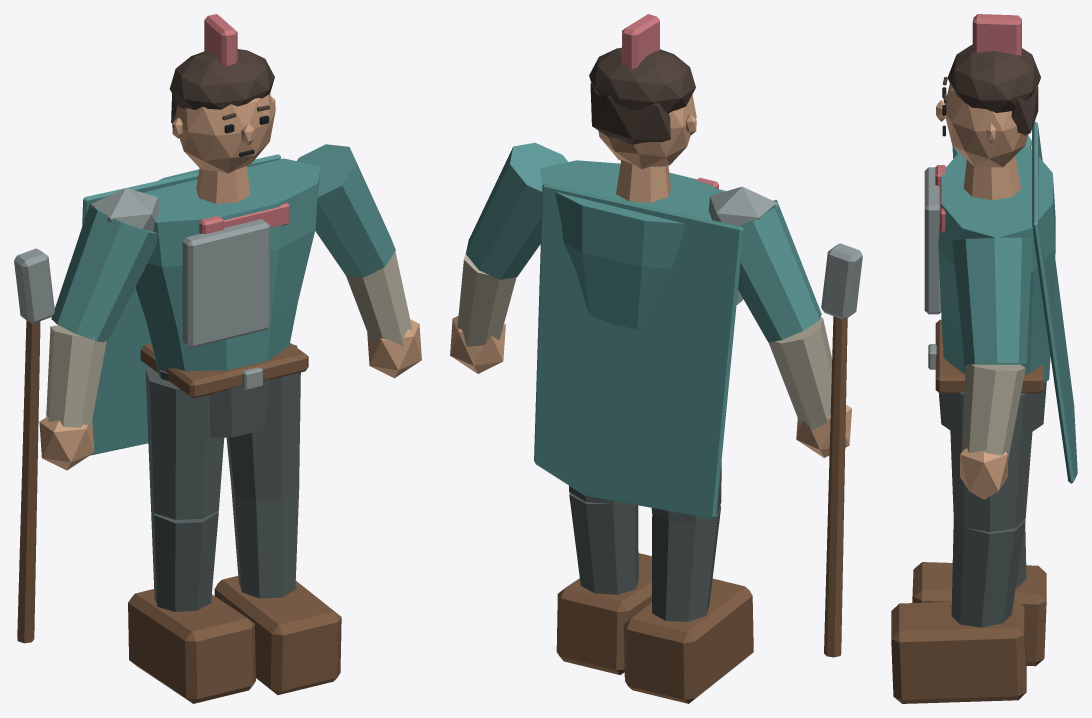
File: npc_raider_step_r_v01.glb
The picture shows the model from 3 angles, left to right: view 1: azimuth 30°, elevation 25°; view 2: azimuth 150°, elevation 25°; view 3: azimuth 270°, elevation 25°; orthographic projection. The views are drawn at different scales.
Visible parts, largest first — view 1: GEO_npc_raider_step_r_v01; view 2: GEO_npc_raider_step_r_v01; view 3: GEO_npc_raider_step_r_v01.
Part boxes in pixels (x1,y1,x2,y2): GEO_npc_raider_step_r_v01: (14,14,421,703); GEO_npc_raider_step_r_v01: (450,14,862,703); GEO_npc_raider_step_r_v01: (891,14,1077,703).
Size of the model in its own units: 1.41 by 2.16 by 0.5571.
